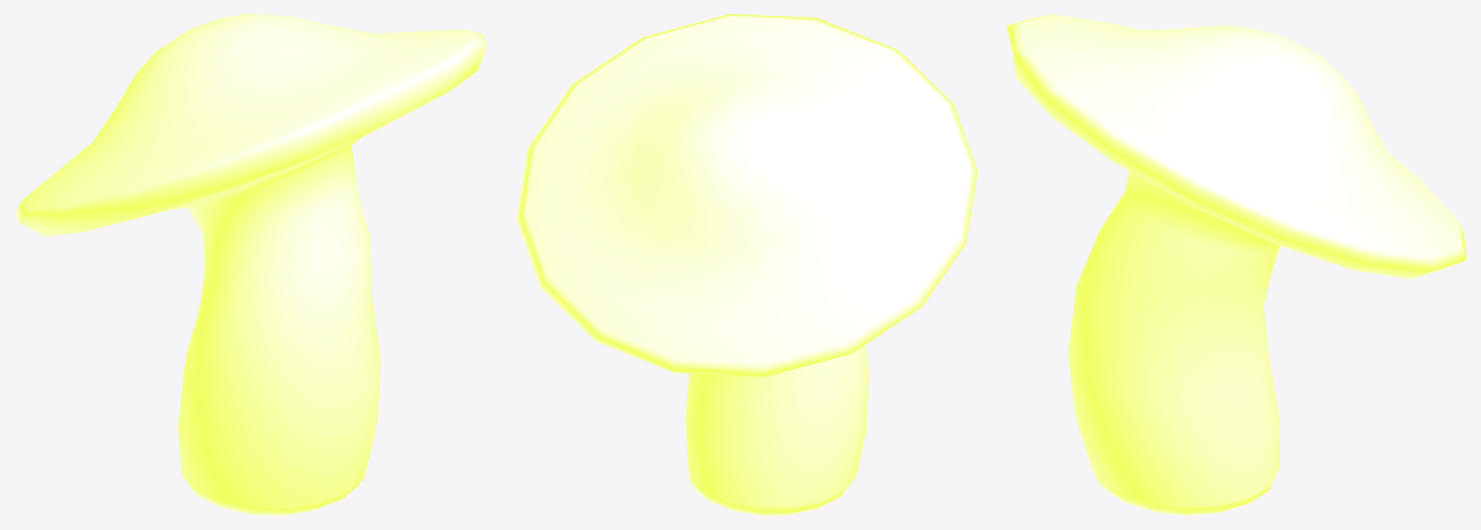
Rendered from cosgurmelocolorido1.fbx.
The picture shows the model from 3 angles, left to right: view 1: azimuth 30°, elevation 25°; view 2: azimuth 150°, elevation 25°; view 3: azimuth 270°, elevation 25°; orthographic projection. The views are drawn at different scales.
Visible parts, largest first — view 1: cogumelo2; view 2: cogumelo2; view 3: cogumelo2.
Boxes of the visible parts, x1,y1,x2,y2 form: cogumelo2: (14, 14, 487, 515); cogumelo2: (516, 14, 977, 515); cogumelo2: (1006, 14, 1466, 515).
Size of the model in its own units: 193 by 191 by 176.
